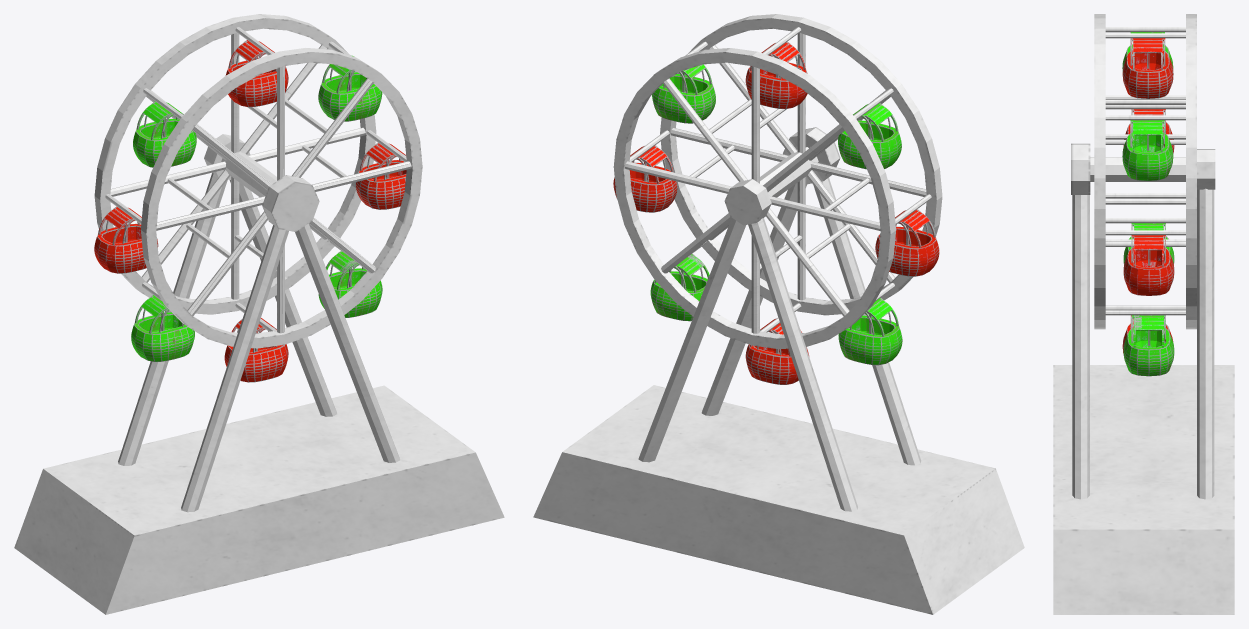
File: uploads_files_4604402_donmedolap 1.fbx
3 renders of one model, left to right at view 1: azimuth 30°, elevation 25°; view 2: azimuth 150°, elevation 25°; view 3: azimuth 270°, elevation 25°, orthographic.
Visible parts, largest first — view 1: Cube.032; view 2: Cube.032; view 3: Cube.032.
Boxes of the visible parts, bbox=[...] form: Cube.032: bbox=[14, 14, 504, 614]; Cube.032: bbox=[533, 14, 1024, 614]; Cube.032: bbox=[1053, 14, 1234, 614].
Bounding box in the file's own units: 355 × 421 × 141.
